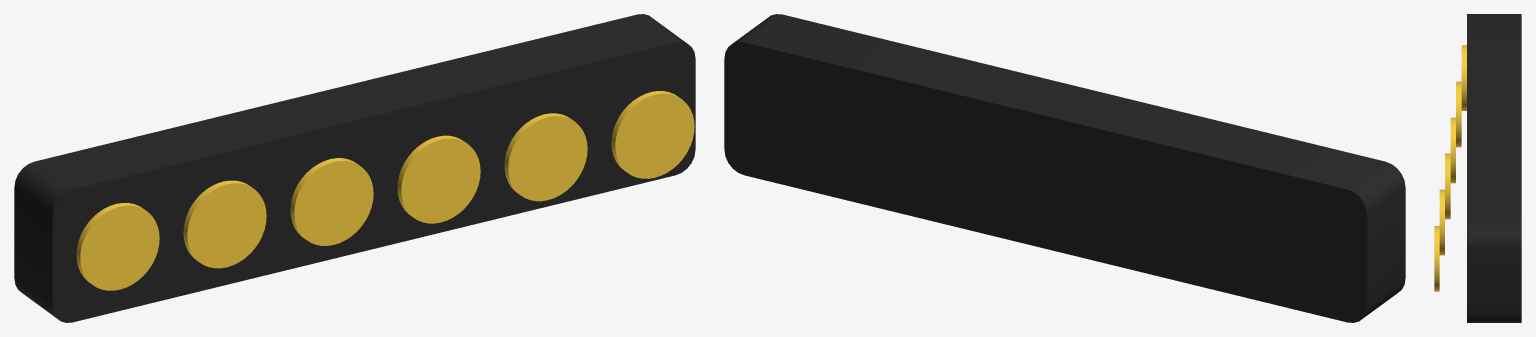
The picture shows the model from 3 angles, left to right: view 1: azimuth 30°, elevation 25°; view 2: azimuth 150°, elevation 25°; view 3: azimuth 270°, elevation 25°; orthographic projection. The views are drawn at different scales.
Visible parts, largest first — view 1: KR41_r00, KR41_d275, KR41_d325, KR41_d300, KR41_d350, KR41_d375, KR41_d250; view 2: KR41_r00; view 3: KR41_r00, KR41_d275, KR41_d325, KR41_d300, KR41_d350, KR41_d250, KR41_d375.
Part boxes in pixels (<box>): KR41_r00: <box>14,14,695,322</box>; KR41_d275: <box>183,180,266,268</box>; KR41_d325: <box>397,135,480,223</box>; KR41_d300: <box>290,158,373,245</box>; KR41_d350: <box>504,113,587,201</box>; KR41_d375: <box>611,91,694,178</box>; KR41_d250: <box>76,203,159,290</box>; KR41_r00: <box>724,14,1405,322</box>; KR41_r00: <box>1467,14,1521,322</box>; KR41_d275: <box>1456,81,1461,147</box>; KR41_d325: <box>1445,153,1450,219</box>; KR41_d300: <box>1450,117,1455,183</box>; KR41_d350: <box>1439,189,1444,255</box>; KR41_d250: <box>1461,45,1466,110</box>; KR41_d375: <box>1434,226,1439,291</box>.
Bounding box in the file's own units: 0.972 × 0.192 × 0.16.
